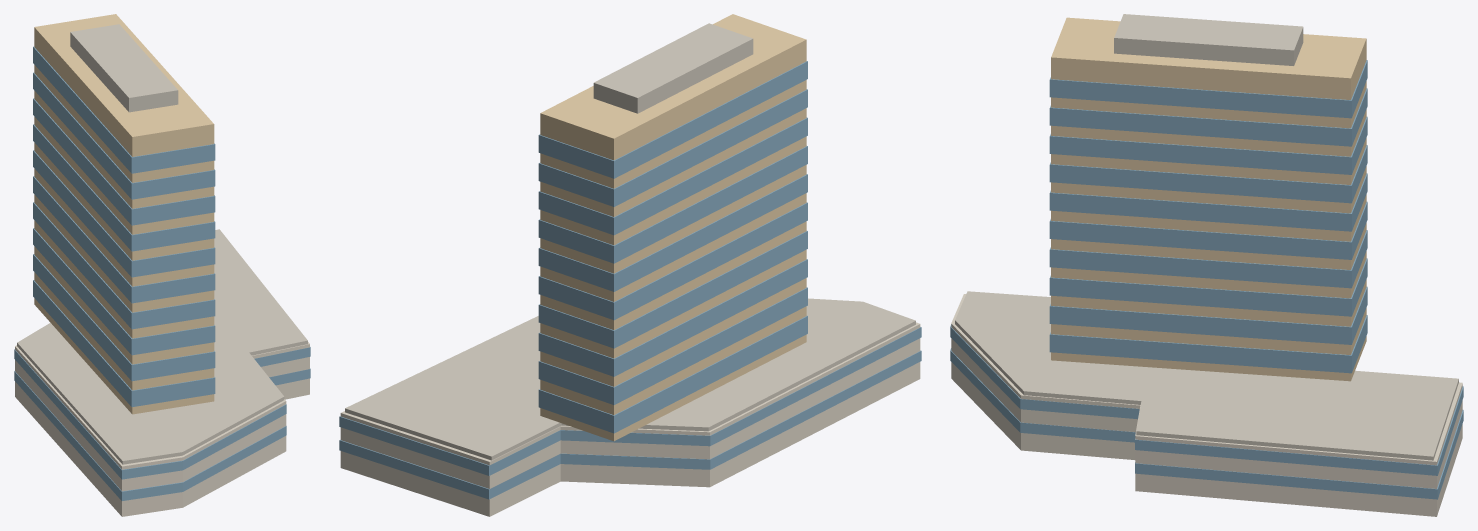
The model's file is melia.glb.
3 views of the same model, side by side, from view 1: azimuth 30°, elevation 25°; view 2: azimuth 150°, elevation 25°; view 3: azimuth 270°, elevation 25° (orthographic). The views are drawn at different scales.
Parts seen in each view (by area): view 1: part; view 2: part; view 3: part.
Part boxes in pixels (x1,y1,x2,y2): part: (14, 14, 310, 516); part: (339, 14, 921, 516); part: (950, 14, 1463, 516).
Size of the model in its own units: 91.86 by 96.01 by 118.
